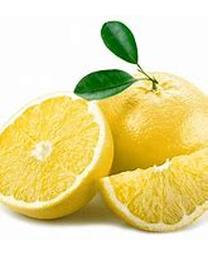lemon: (0, 90, 114, 220), (94, 70, 207, 174), (98, 151, 207, 234)
